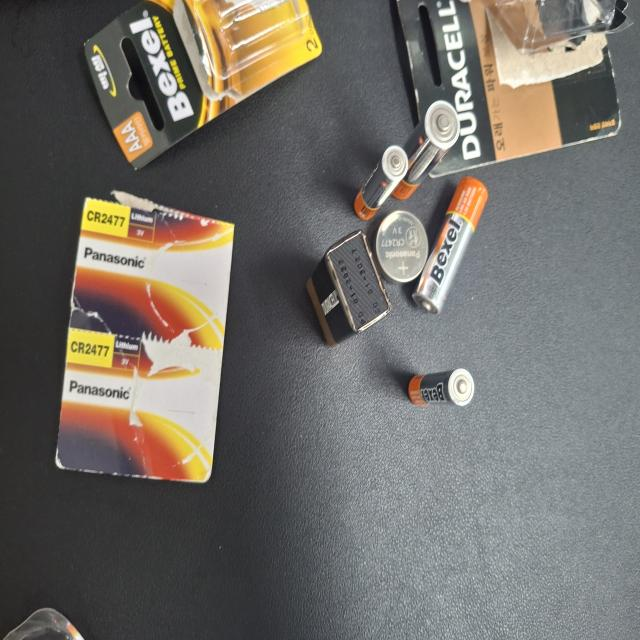9V: (220, 408, 306, 520)
AA: (244, 550, 347, 640), (330, 522, 404, 612)
AAA: (316, 473, 371, 544), (176, 545, 203, 632)
COIN: (268, 500, 322, 572)
